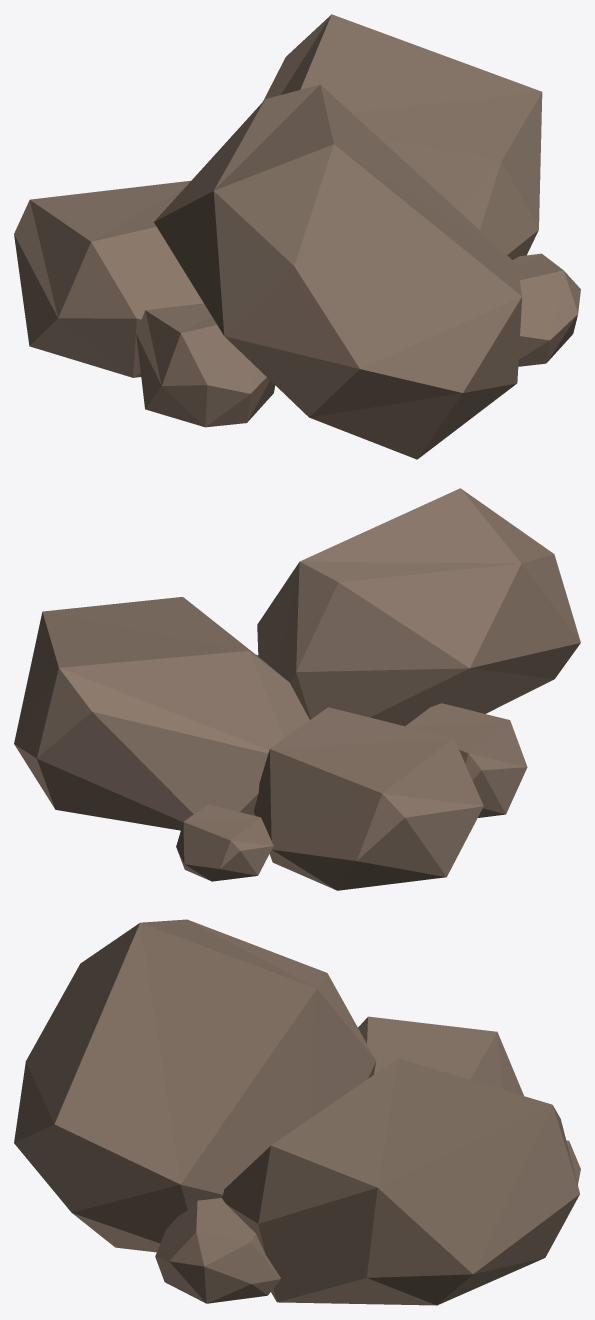
The model's file is Stone.fbx.
The picture shows the model from 3 angles, top to bottom: view 1: azimuth 30°, elevation 25°; view 2: azimuth 150°, elevation 25°; view 3: azimuth 270°, elevation 25°; orthographic projection. The views are drawn at different scales.
Visible parts, largest first — view 1: Stones; view 2: Stones; view 3: Stones.
Part boxes in pixels (x1,y1,x2,y2): Stones: [14, 14, 580, 459]; Stones: [14, 488, 580, 890]; Stones: [14, 919, 580, 1305].
Size of the model in its own units: 174 by 110 by 192.
